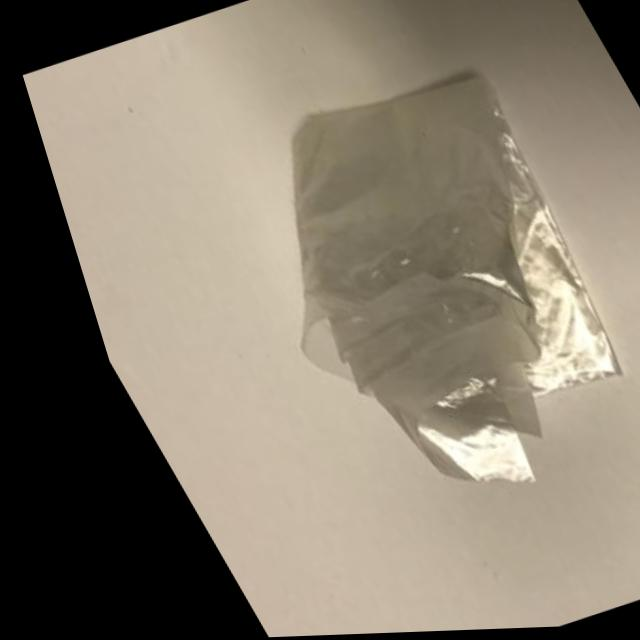trash: (88, 0, 640, 618)
